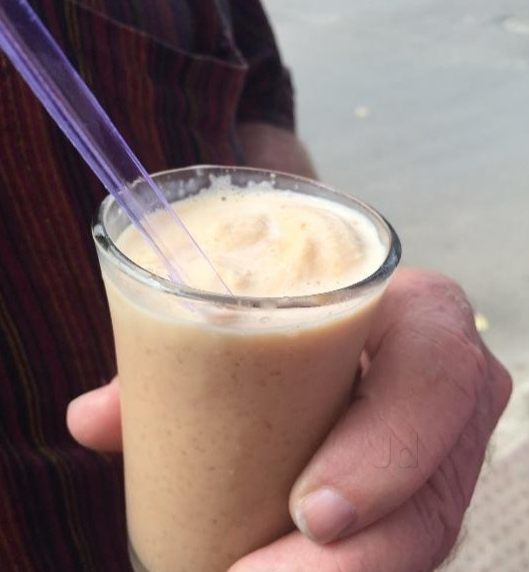jigirthanda: (104, 186, 352, 535)
